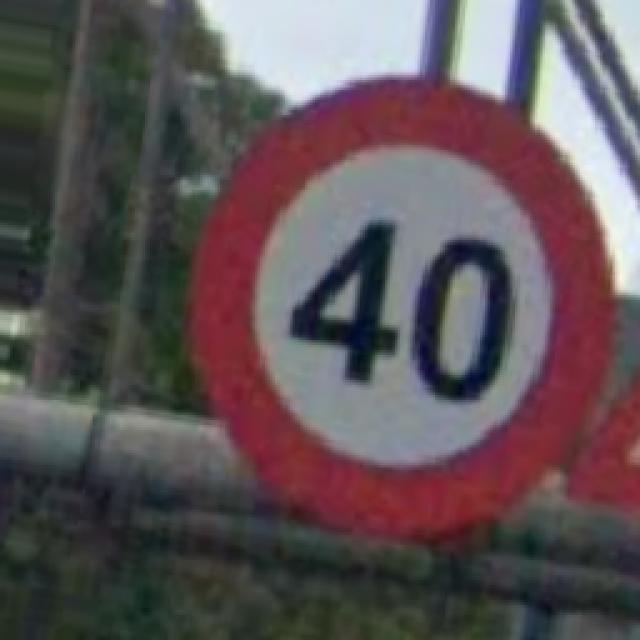Speed Limit -40-: (192, 78, 610, 535)
